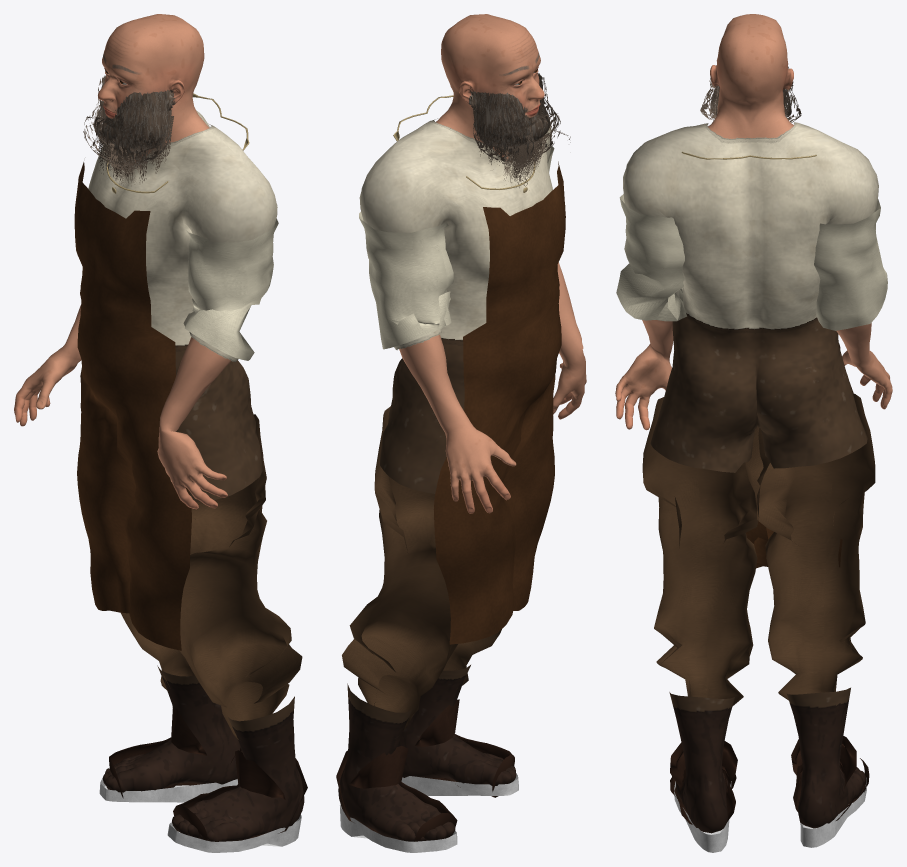
Rendered from SM_Art_Person_bigtom.gltf.
3 views of the same model, side by side, from view 1: azimuth 30°, elevation 25°; view 2: azimuth 150°, elevation 25°; view 3: azimuth 270°, elevation 25° (orthographic). The views are drawn at different scales.
Visible parts, largest first — view 1: SM_Art_Person_bigtom; view 2: SM_Art_Person_bigtom; view 3: SM_Art_Person_bigtom.
Boxes of the visible parts, box(x1,y1,x2,y2) form: SM_Art_Person_bigtom: box(14, 14, 307, 852); SM_Art_Person_bigtom: box(336, 14, 586, 852); SM_Art_Person_bigtom: box(615, 14, 892, 852).
Bounding box in the file's own units: 0.5005 × 1.92 × 0.6213.
Materials: 16 (15 with a texture image).
